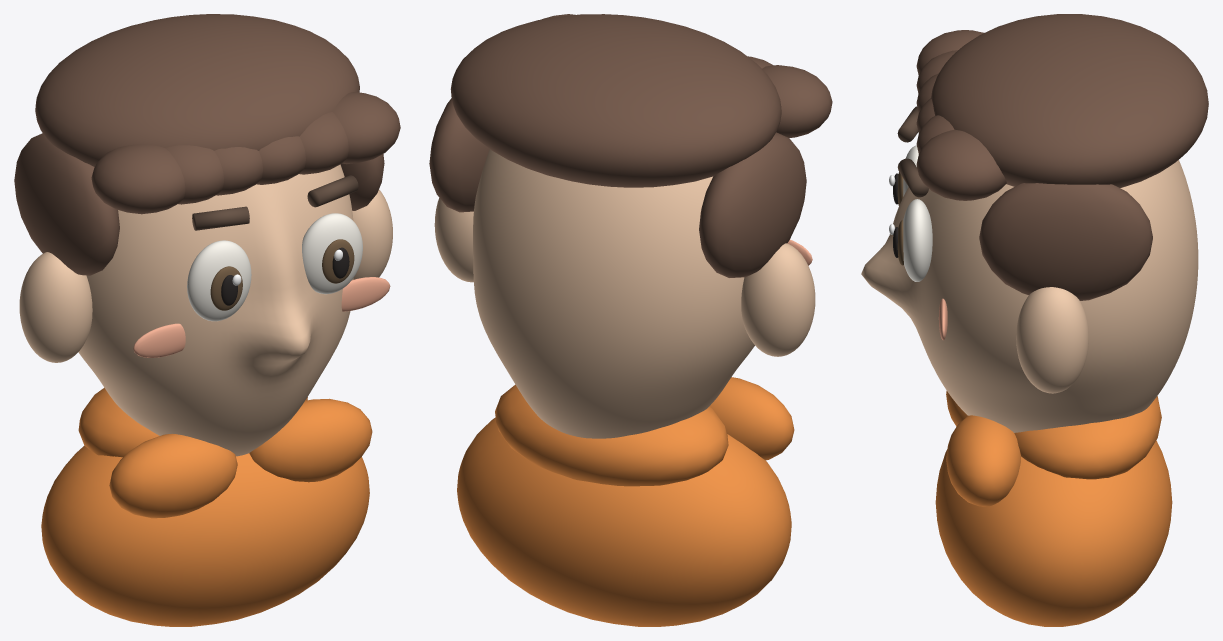
The model's file is roamlab_face_slim_preview.glb.
The picture shows the model from 3 angles, left to right: view 1: azimuth 30°, elevation 25°; view 2: azimuth 150°, elevation 25°; view 3: azimuth 270°, elevation 25°; orthographic projection. The views are drawn at different scales.
Visible parts, largest first — view 1: Head_Morph_4Shapes_NoseAuto, Jacket_Bust, Hair_Top, Hair_Temple_L, Collar_L, Collar_R, Ear_L, Hair_Fringe_00, Hair_Fringe_05, Collar_Back, EyeSclera_L, EyeSclera_R (+12 smaller); view 2: Head_Morph_4Shapes_NoseAuto, Hair_Top, Jacket_Bust, Collar_Back, Hair_Temple_L, Ear_L, Collar_L, Hair_Temple_R, Hair_Fringe_00, Ear_R; view 3: Head_Morph_4Shapes_NoseAuto, Hair_Top, Jacket_Bust, Hair_Temple_R, Collar_Back, Ear_R, Collar_R, Hair_Fringe_05, EyeSclera_R, Hair_Fringe_00, Brow_R, Hair_Fringe_04 (+1 smaller).
Boxes of the visible parts, x1=… form: Head_Morph_4Shapes_NoseAuto: x1=78, y1=164, x2=353, y2=456; Jacket_Bust: x1=41, y1=445, x2=369, y2=626; Hair_Top: x1=35, y1=14, x2=359, y2=166; Hair_Temple_L: x1=14, y1=133, x2=119, y2=275; Collar_L: x1=109, y1=433, x2=237, y2=518; Collar_R: x1=249, y1=398, x2=372, y2=482; Ear_L: x1=19, y1=252, x2=92, y2=362; Hair_Fringe_00: x1=91, y1=144, x2=185, y2=214; Hair_Fringe_05: x1=333, y1=92, x2=400, y2=164; Collar_Back: x1=78, y1=387, x2=307, y2=457; EyeSclera_L: x1=187, y1=240, x2=251, y2=321; EyeSclera_R: x1=302, y1=213, x2=362, y2=294; Head_Morph_4Shapes_NoseAuto: x1=473, y1=149, x2=754, y2=438; Hair_Top: x1=450, y1=14, x2=781, y2=187; Jacket_Bust: x1=457, y1=417, x2=791, y2=626; Collar_Back: x1=495, y1=384, x2=728, y2=486; Hair_Temple_L: x1=699, y1=132, x2=806, y2=277; Ear_L: x1=741, y1=243, x2=815, y2=356; Collar_L: x1=709, y1=377, x2=794, y2=460; Hair_Temple_R: x1=429, y1=98, x2=489, y2=212; Hair_Fringe_00: x1=762, y1=65, x2=832, y2=137; Ear_R: x1=434, y1=198, x2=473, y2=282; Head_Morph_4Shapes_NoseAuto: x1=861, y1=160, x2=1198, y2=432; Hair_Top: x1=931, y1=14, x2=1208, y2=187; Jacket_Bust: x1=935, y1=440, x2=1172, y2=626; Hair_Temple_R: x1=979, y1=183, x2=1152, y2=300; Collar_Back: x1=1014, y1=396, x2=1161, y2=479; Ear_R: x1=1016, y1=287, x2=1088, y2=393; Collar_R: x1=946, y1=415, x2=1020, y2=506; Hair_Fringe_05: x1=916, y1=129, x2=1006, y2=200; EyeSclera_R: x1=903, y1=199, x2=932, y2=281; Hair_Fringe_00: x1=916, y1=30, x2=983, y2=74; Brow_R: x1=897, y1=158, x2=928, y2=197; Hair_Fringe_04: x1=916, y1=115, x2=954, y2=153.
Bounding box in the file's own units: 1.19 × 1.76 × 0.9991.
